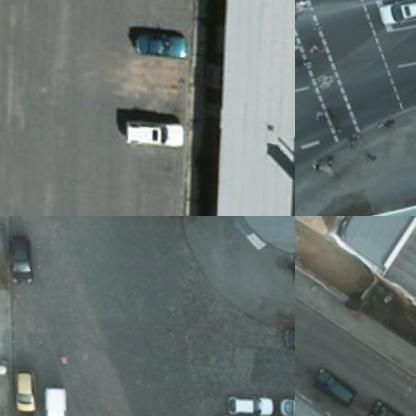car: (116, 110, 180, 154), (0, 228, 34, 289), (295, 371, 349, 409), (367, 0, 415, 38), (129, 32, 182, 62), (1, 370, 33, 415), (212, 393, 267, 415), (26, 388, 65, 415), (270, 325, 294, 361), (264, 392, 294, 415), (351, 402, 397, 415)
